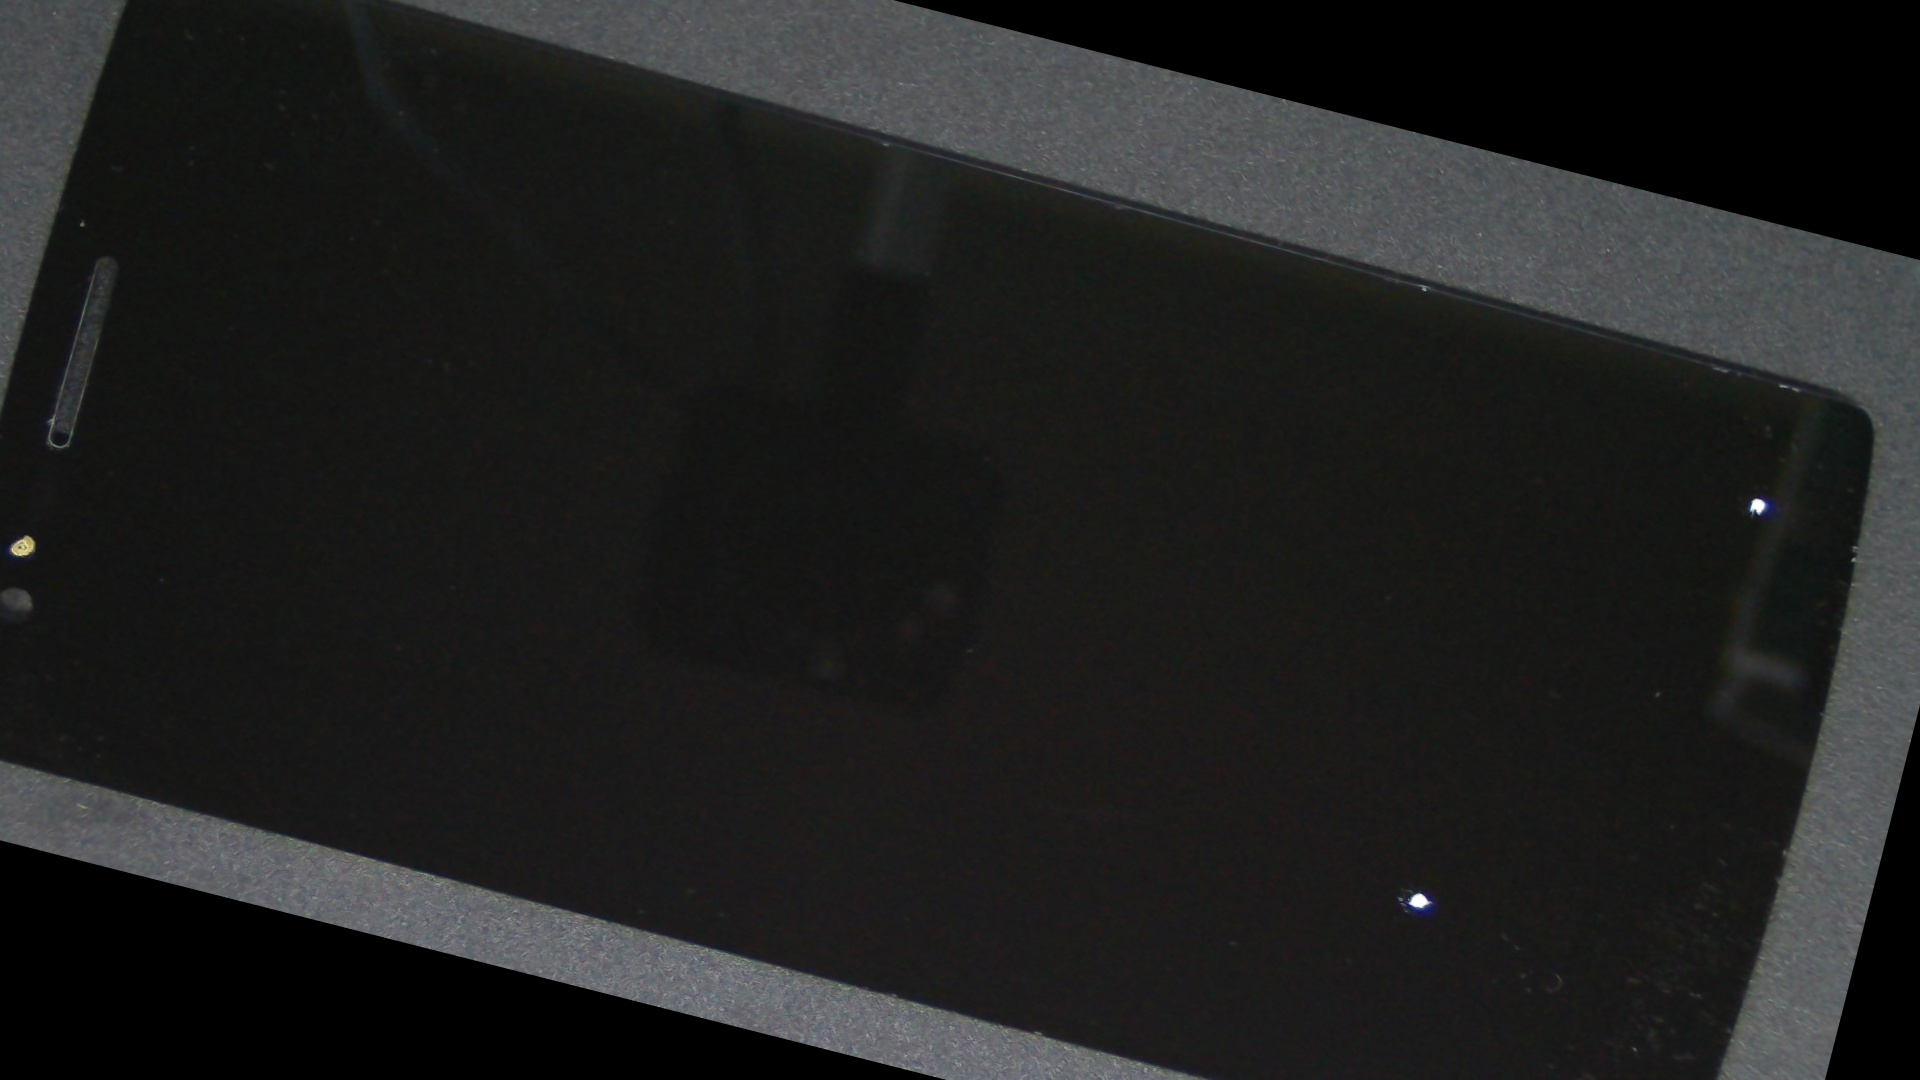oil: (572, 338, 1920, 1080), (841, 142, 1920, 678), (0, 161, 195, 848)
